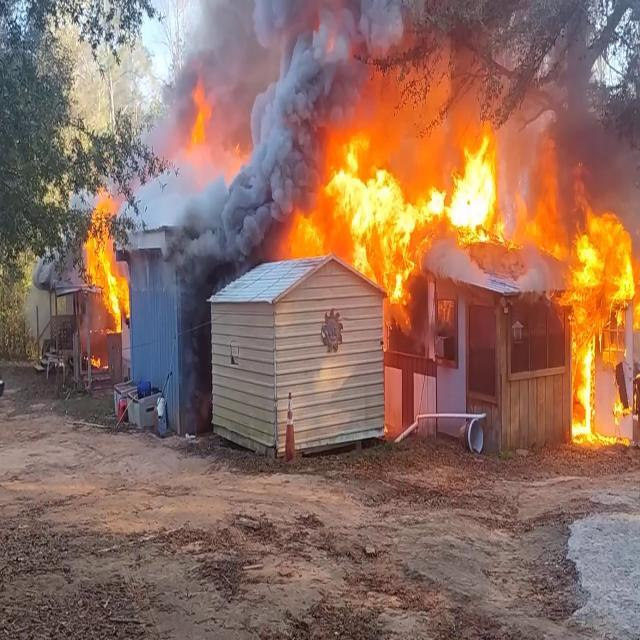Fire: (282, 120, 562, 300), (562, 205, 640, 446), (80, 186, 132, 328), (179, 80, 251, 182)
Smoke: (151, 0, 590, 166)
